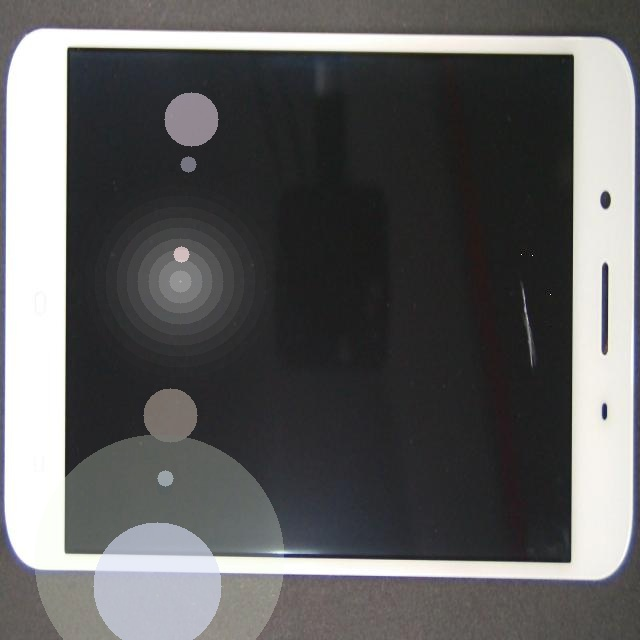scratch: (242, 80, 640, 463)
